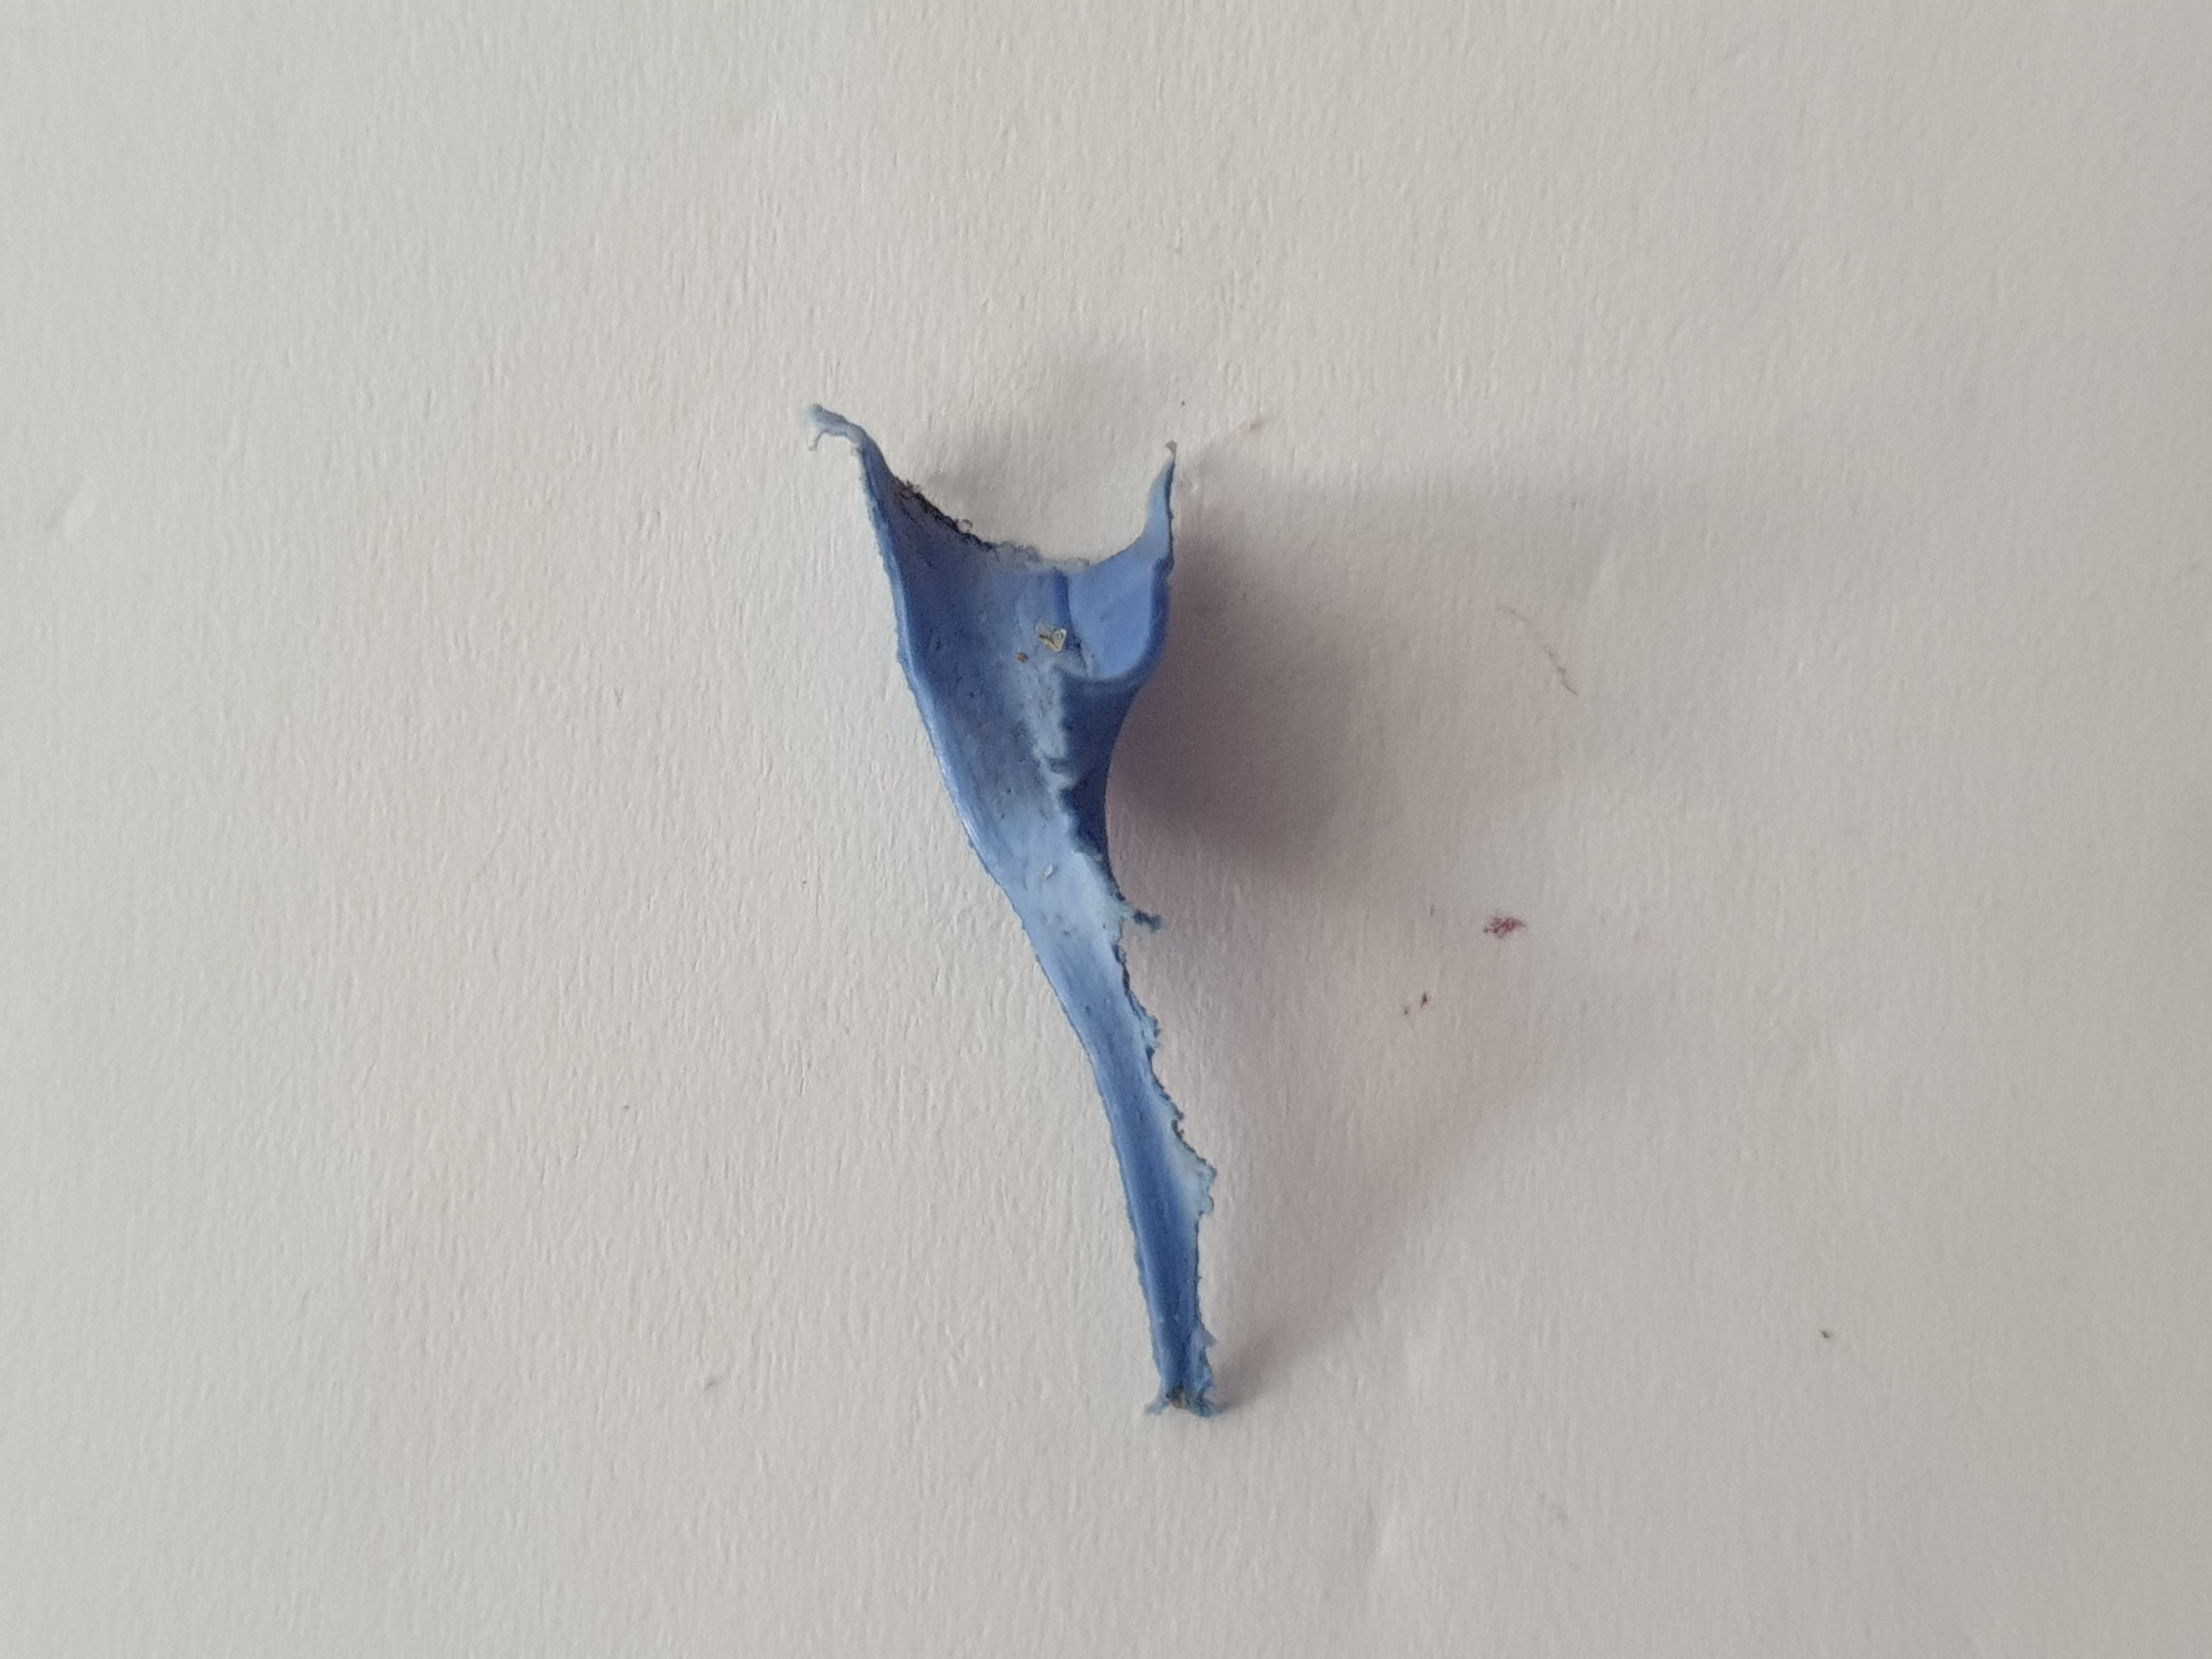plastic: (765, 390, 1268, 1462)
